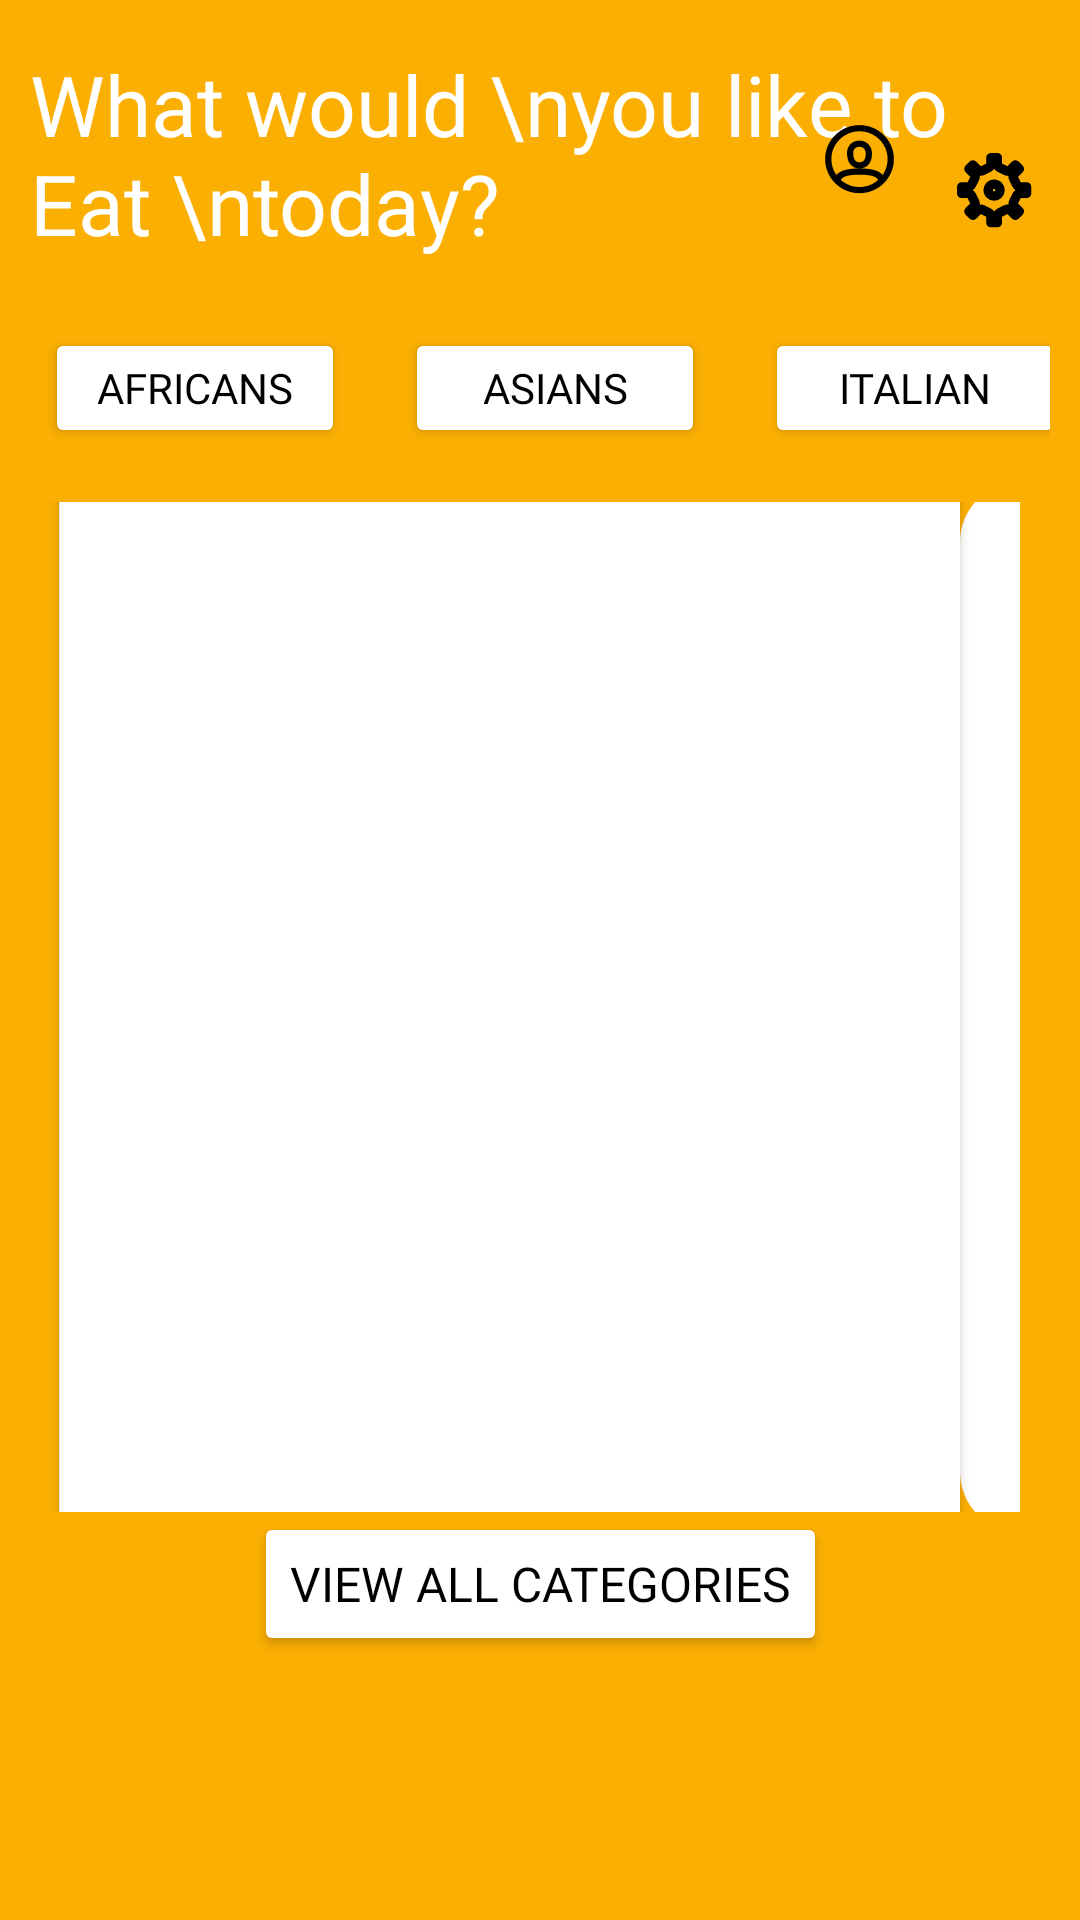

Where to tap for icons on this 1080*1920 app screen, as [x,y]:
setting: [994,190]
user: [859,156]
